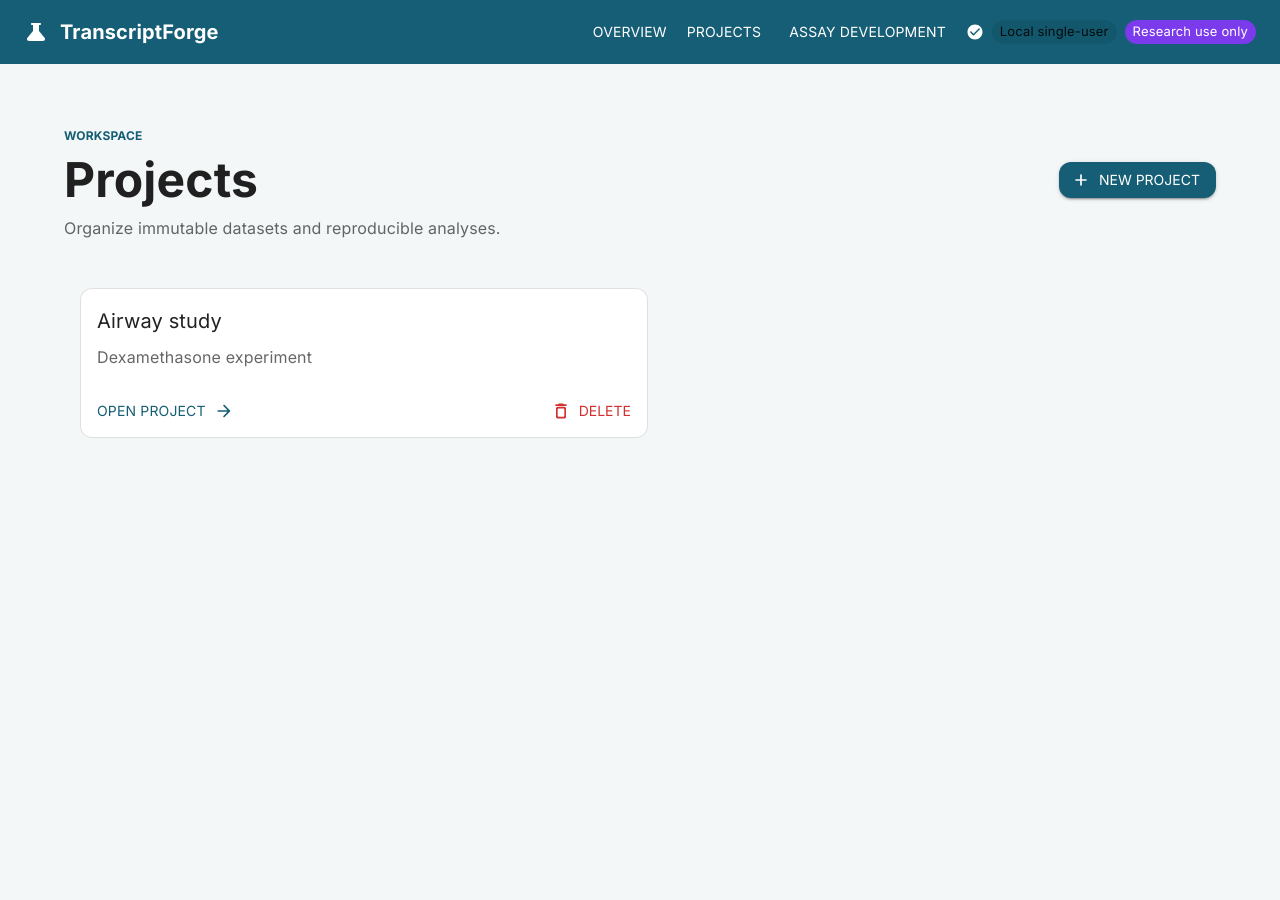
Test: App › requires the exact project name before deleting a project
Click the button with aria-label "Delete Airway study".
click(593, 411)  # box x1=547 y1=393 x2=639 y2=429
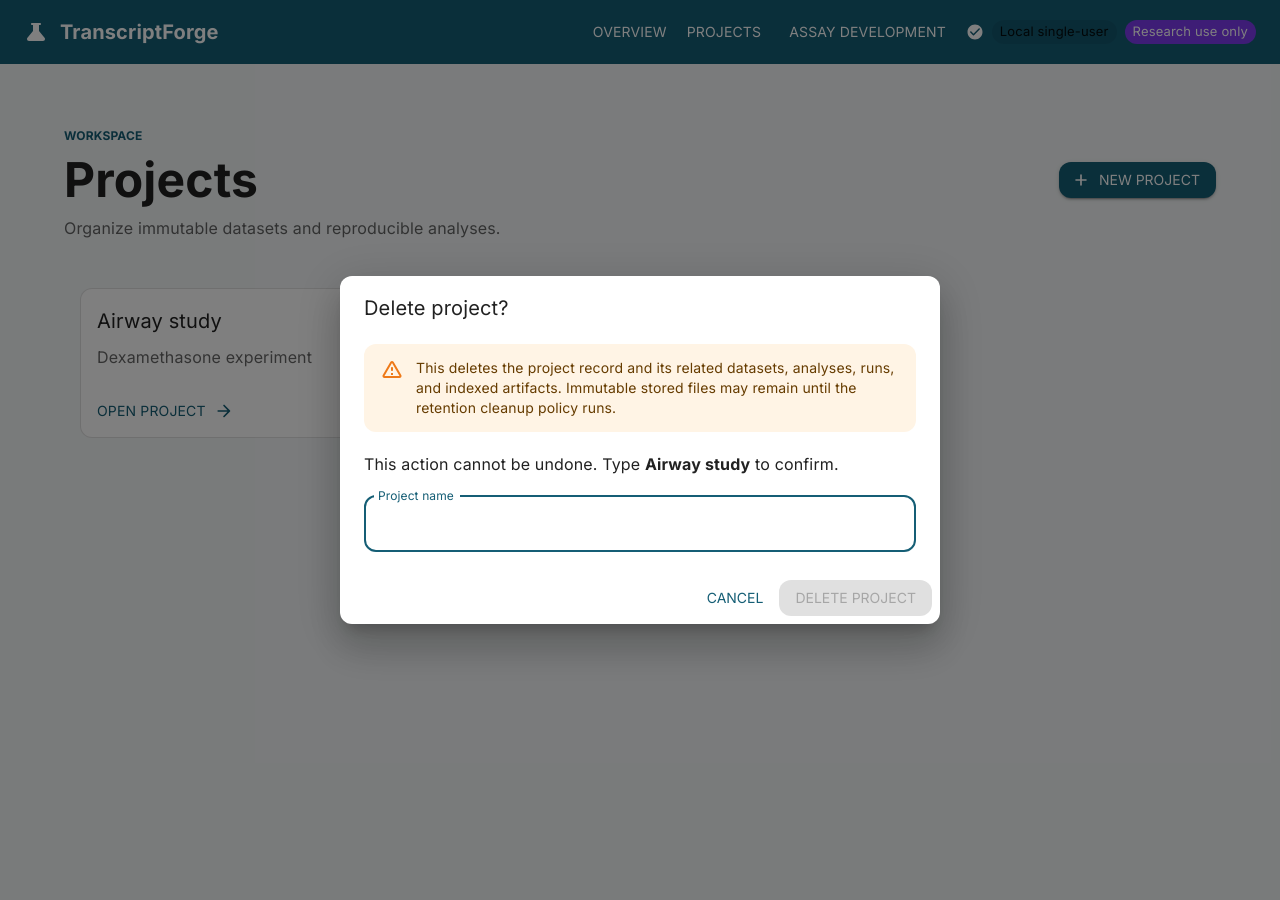
expect the button "Delete project" is disabled: met, box x1=779 y1=580 x2=932 y2=616
Type "Airway study" into the field labelled "Project name".
click(640, 524); type("Airway study")  # box x1=364 y1=496 x2=916 y2=552
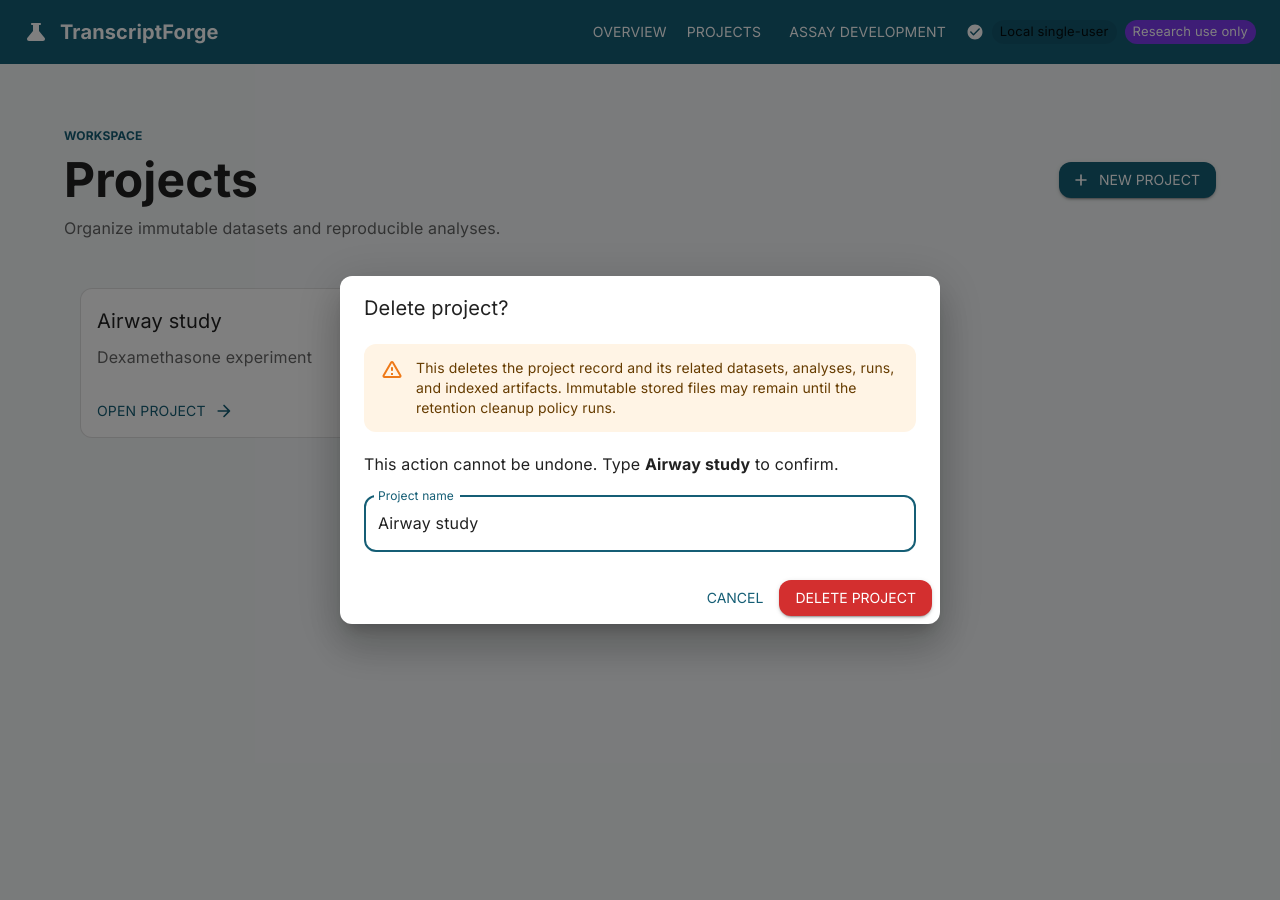
expect the button "Delete project" is enabled: met
Click the button "Delete project".
click(856, 598)  # box x1=779 y1=580 x2=932 y2=616
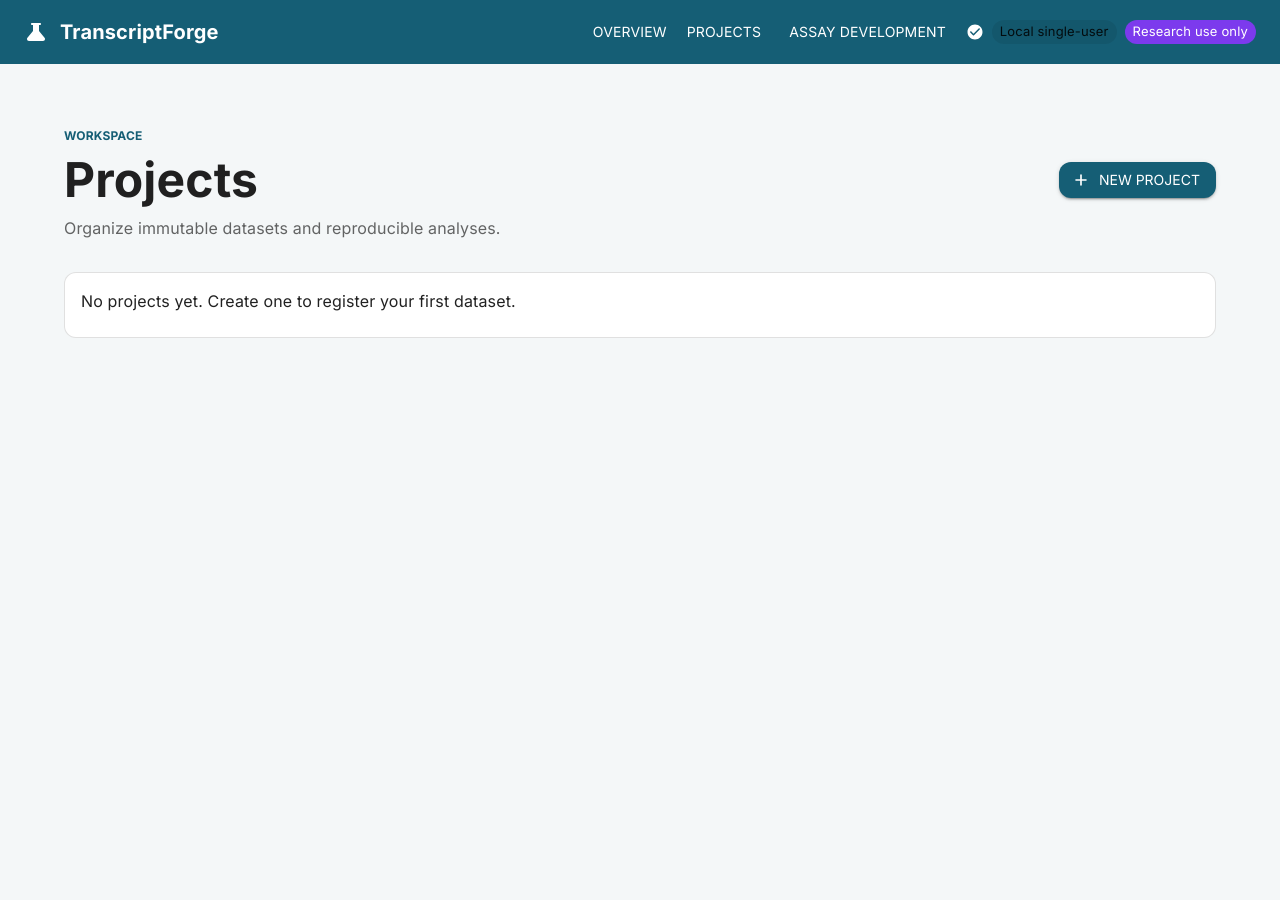
expect the heading "Airway study" is gone: met
